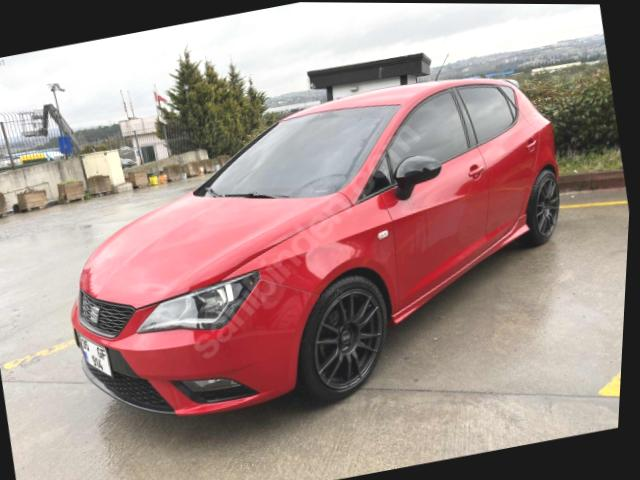plaka: (80, 335, 111, 375)
